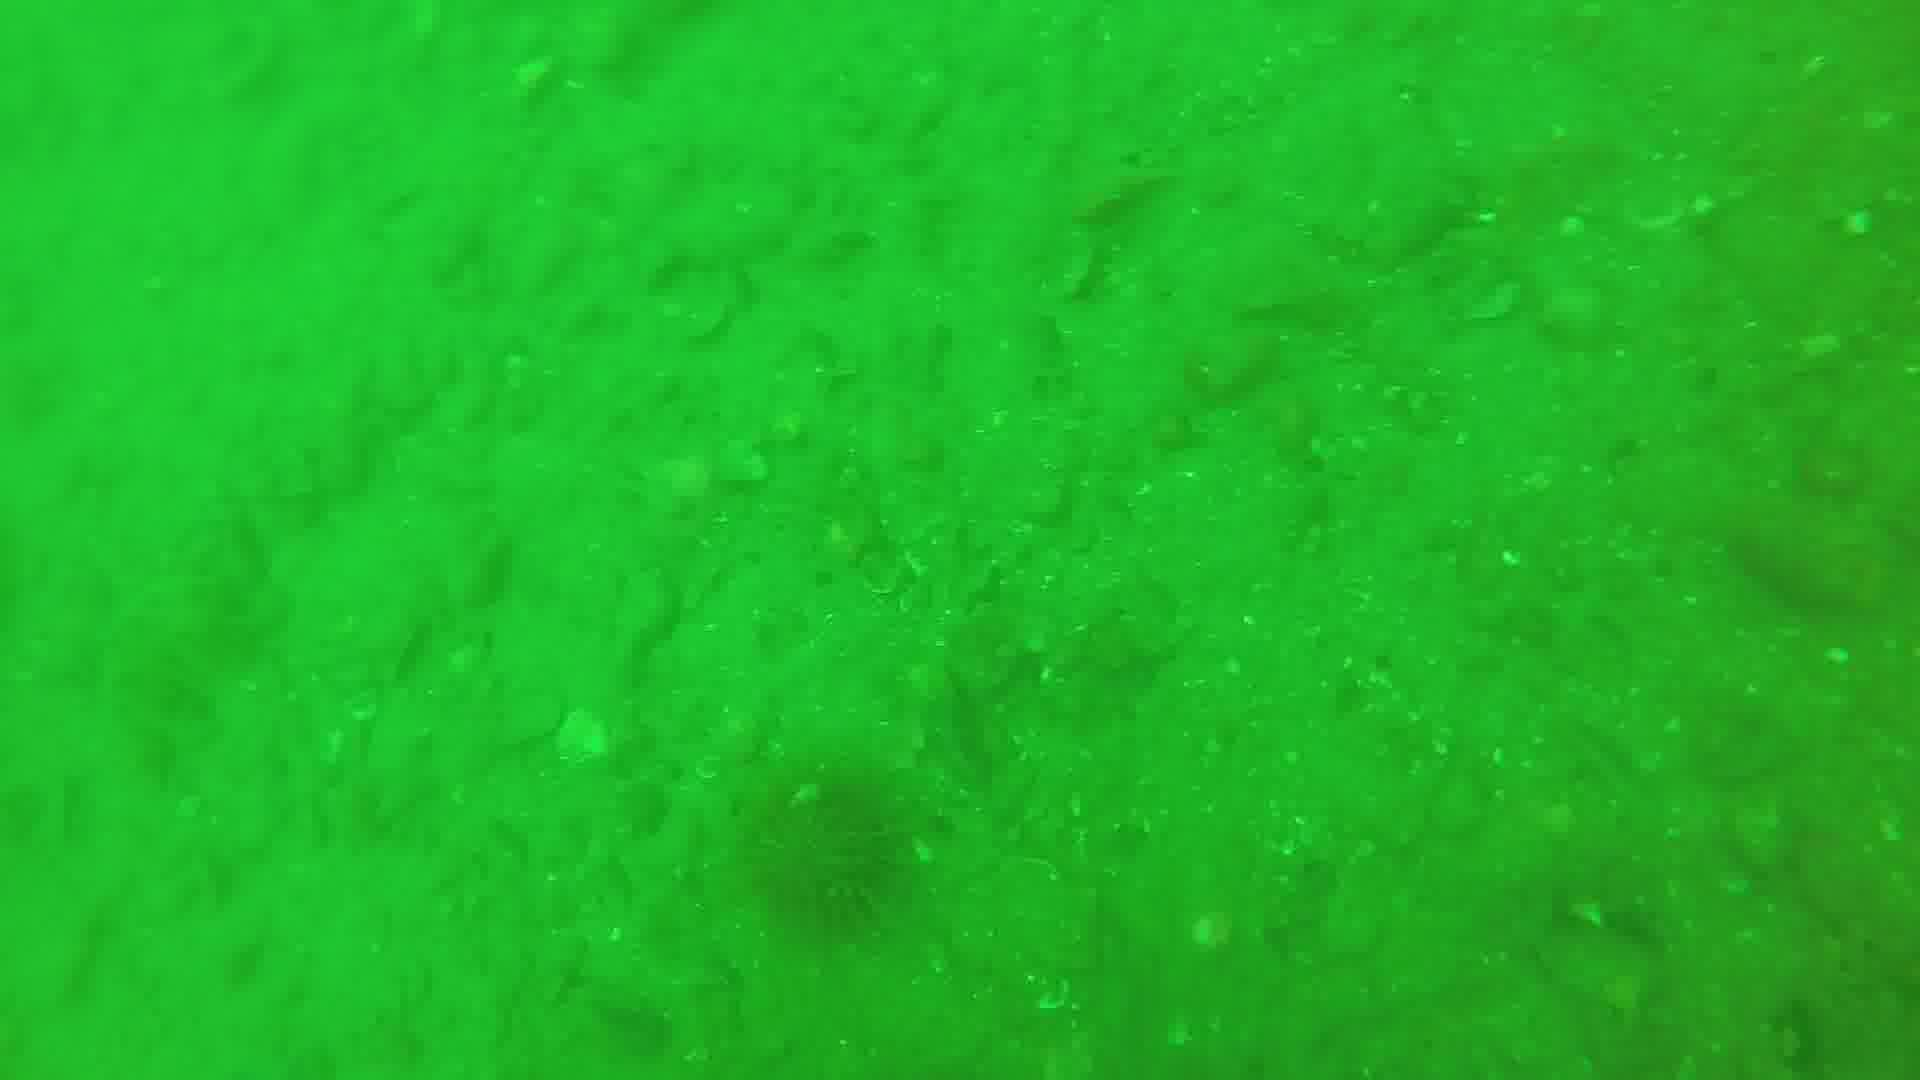echinus: (742, 758, 916, 949)
scallop: (560, 709, 615, 764), (1189, 914, 1238, 945)
